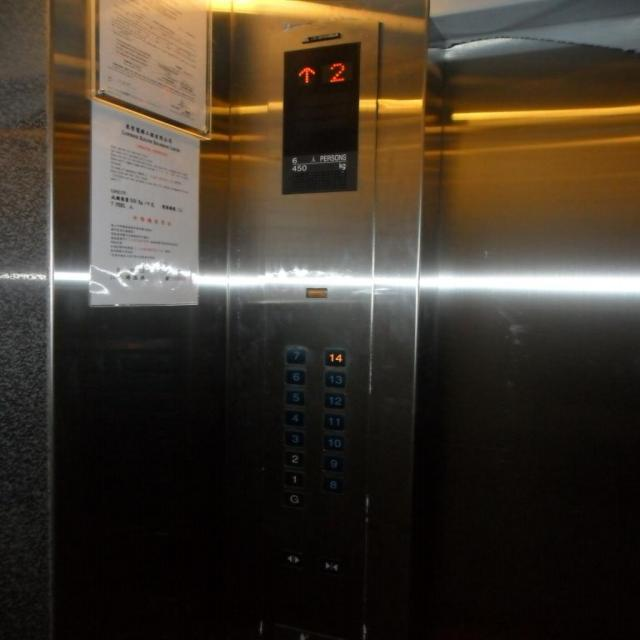1: (282, 468, 306, 488)
10: (321, 432, 345, 452)
11: (321, 411, 345, 431)
12: (322, 389, 346, 410)
13: (322, 368, 347, 389)
14: (322, 347, 347, 367)
2: (282, 448, 306, 469)
3: (282, 428, 306, 449)
4: (282, 408, 306, 428)
5: (282, 387, 306, 407)
6: (284, 366, 308, 386)
7: (284, 346, 308, 366)
8: (320, 473, 344, 494)
9: (321, 452, 345, 472)
G: (282, 488, 306, 508)
alarm: (304, 286, 328, 299)
close: (317, 557, 341, 574)
led: (280, 42, 359, 196)
open: (280, 550, 303, 568)
